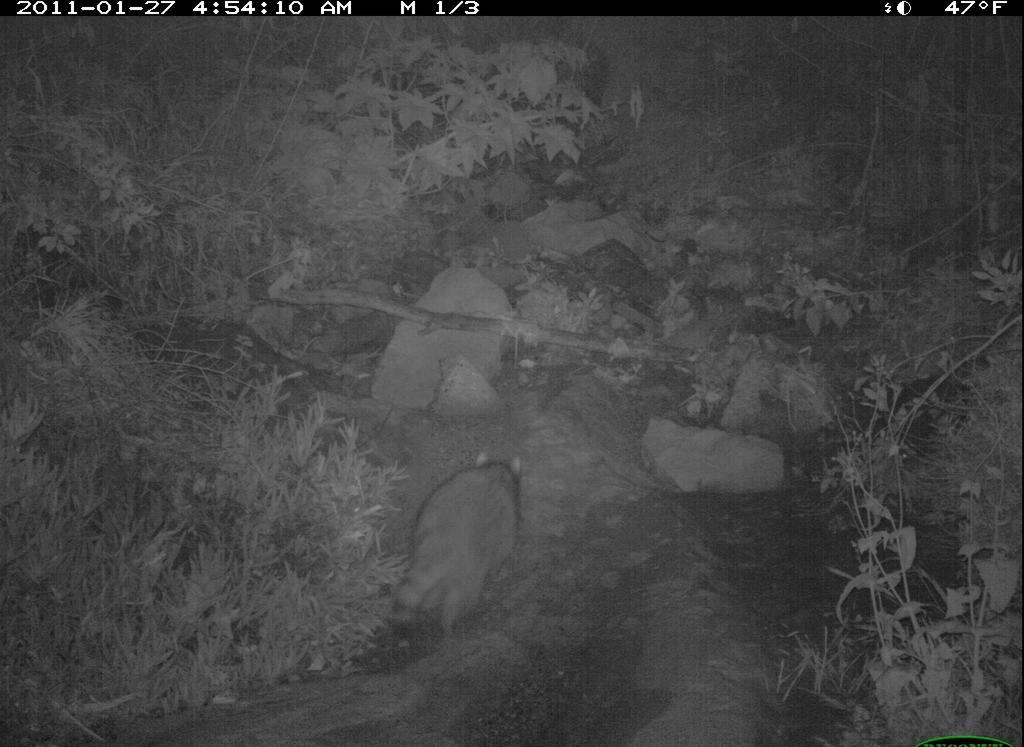raccoon: (374, 447, 533, 641)
